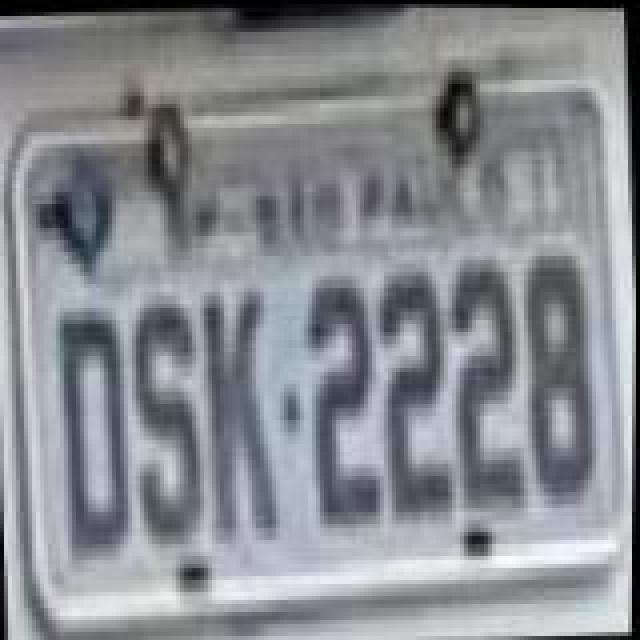2: (304, 272, 392, 536), (376, 266, 464, 526), (440, 252, 528, 512)
8: (516, 246, 604, 502)
D: (50, 304, 138, 564)
K: (200, 282, 288, 554)
S: (124, 294, 212, 550)
